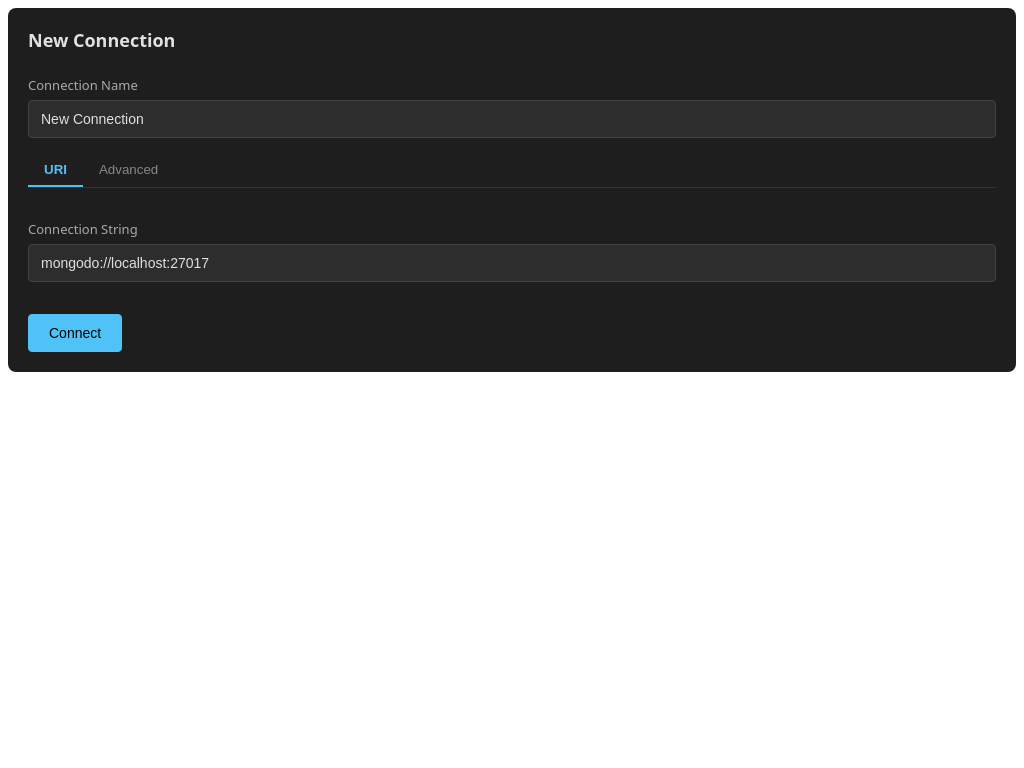
Test: ConnectionForm › tab switching › switches to advanced form tab
The image size is (1024, 768).
Click the button with test id "form-tab" at x=129, y=170, box [83,154,174,187]
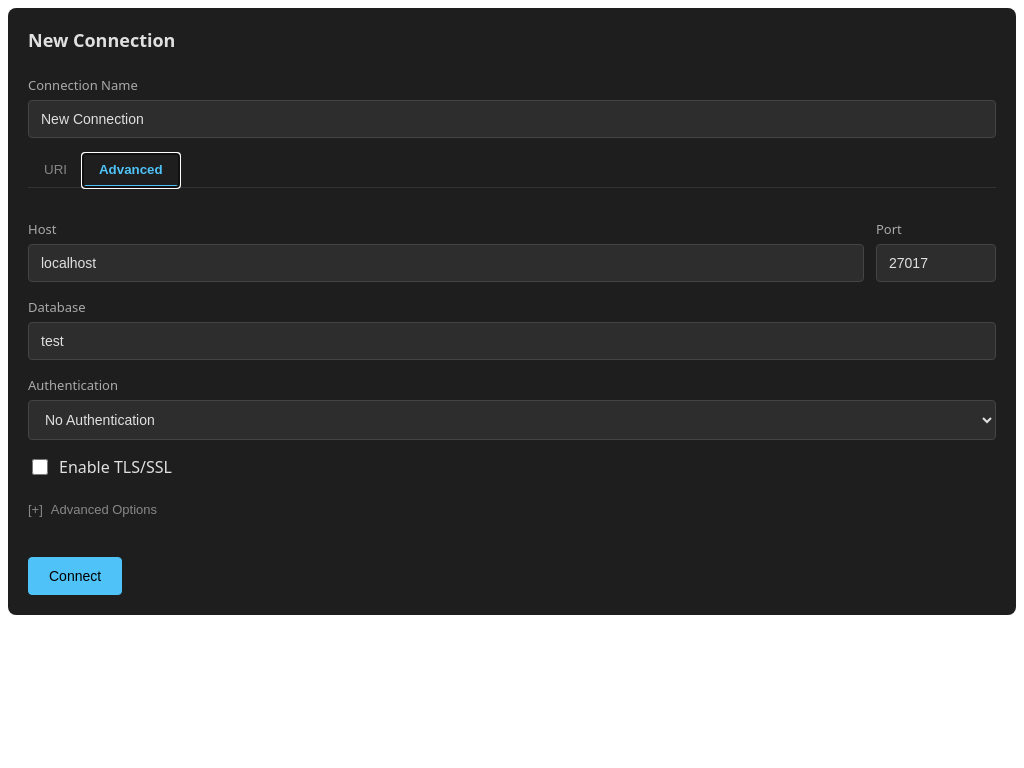
Result: the field with test id "connection-host-input" is shown at [28,244,864,282]
Result: the number field with test id "connection-port-input" is shown at [876,244,996,282]
